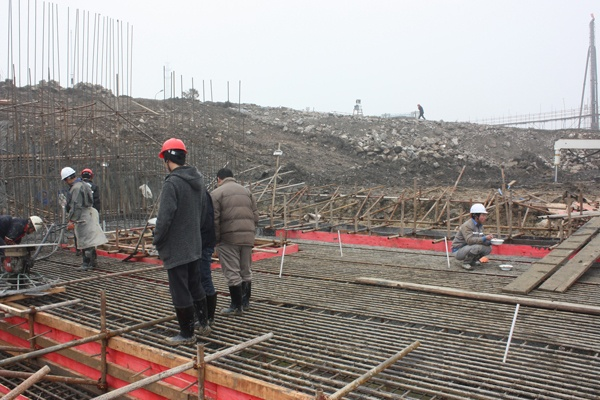none: (212, 164, 234, 187)
red: (156, 134, 188, 171), (79, 165, 93, 181)
white: (21, 213, 43, 236), (469, 200, 489, 225), (58, 164, 77, 187)
